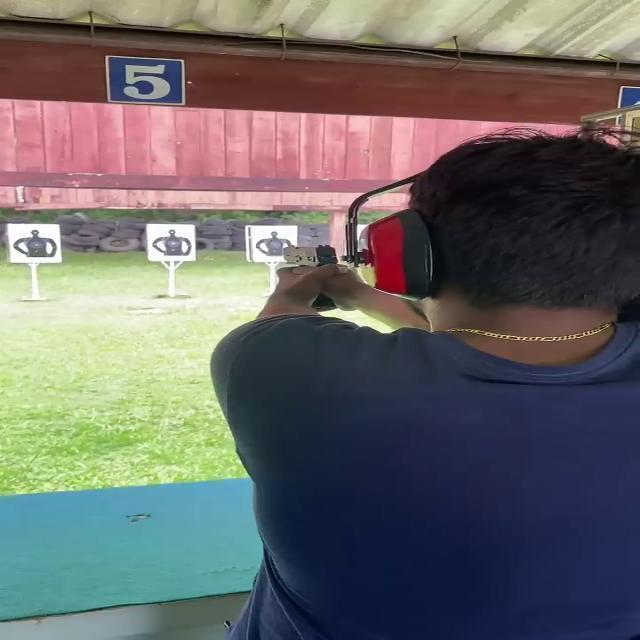Handgun: (271, 234, 349, 313)
